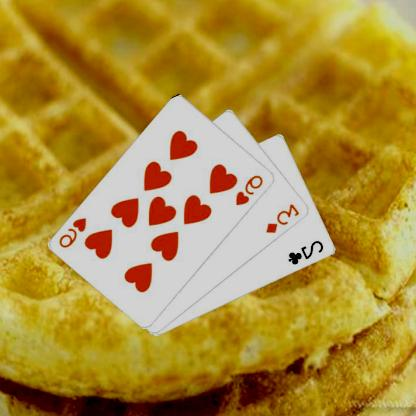2C: (288, 238, 327, 266)
3D: (264, 201, 302, 235)
9H: (58, 214, 90, 250), (235, 172, 266, 207)
